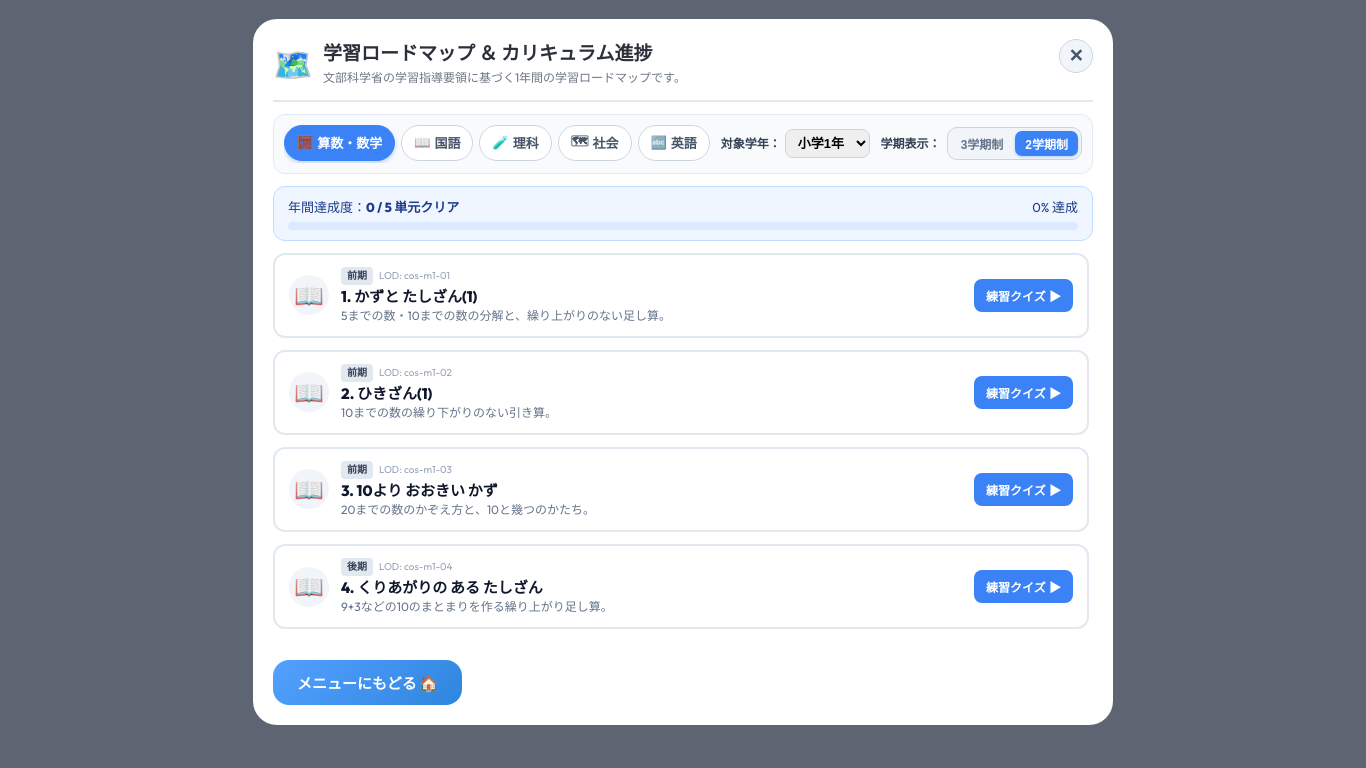
Test: RoadmapScreen 2学期制対応と表示比較切り替えテスト › 「3学期制」トグルボタンを押すと表示が「1学期」「2学期」「3学期」に切り替わる
# 3学期制ボタンを押下
Click the button "3学期制" at (982, 144), box [951,131,1013,156]
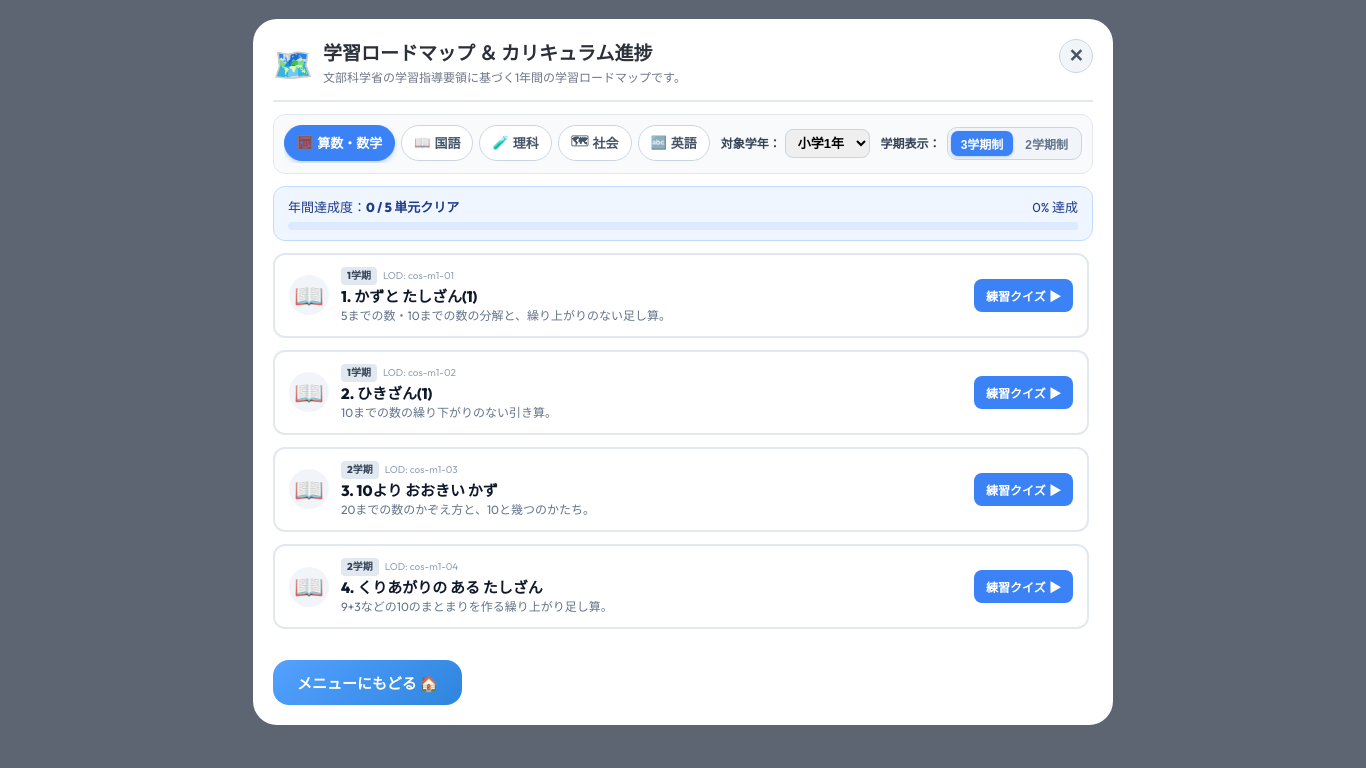
Expected: the text "1学期" in the row of "cos-m1-01" is shown, [347,269,371,282]
# 再度「2学期制」ボタンを押下
Click the button "2学期制" at (1047, 144), box [1015,131,1078,156]
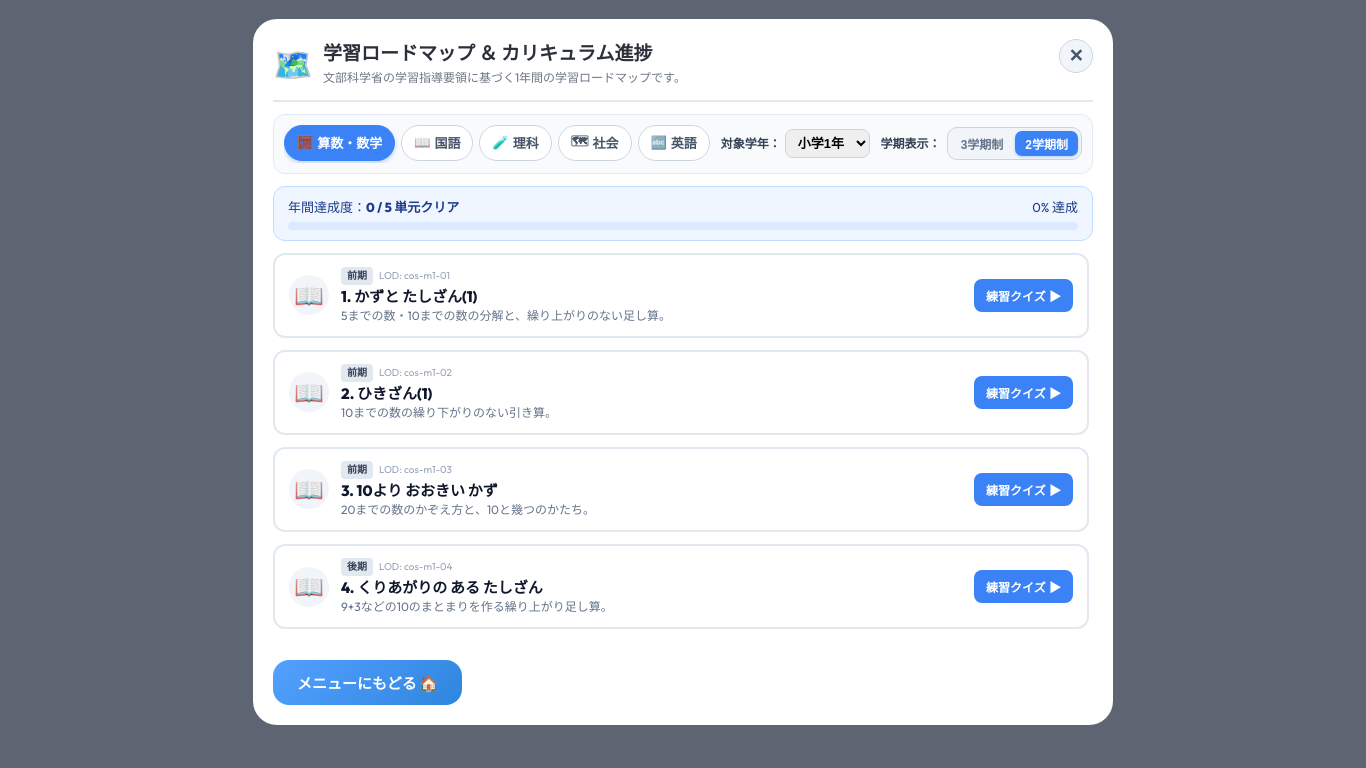
Expected: the text "前期" in the row of "cos-m1-01" is shown, [347,269,367,282]
